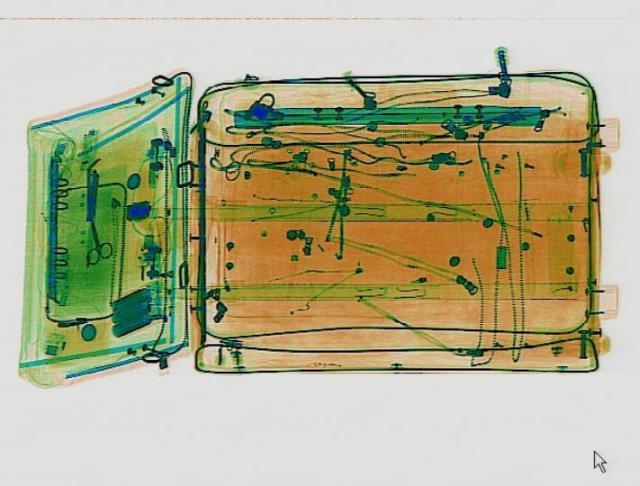Scissors: (73, 217, 115, 263)
